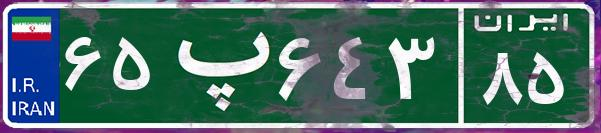3: (385, 28, 445, 110)
4: (330, 28, 385, 110)
5: (110, 28, 158, 105), (525, 38, 570, 115)
6: (273, 28, 330, 110), (57, 26, 110, 107)
8: (475, 38, 525, 113)
پ: (158, 15, 273, 115)
